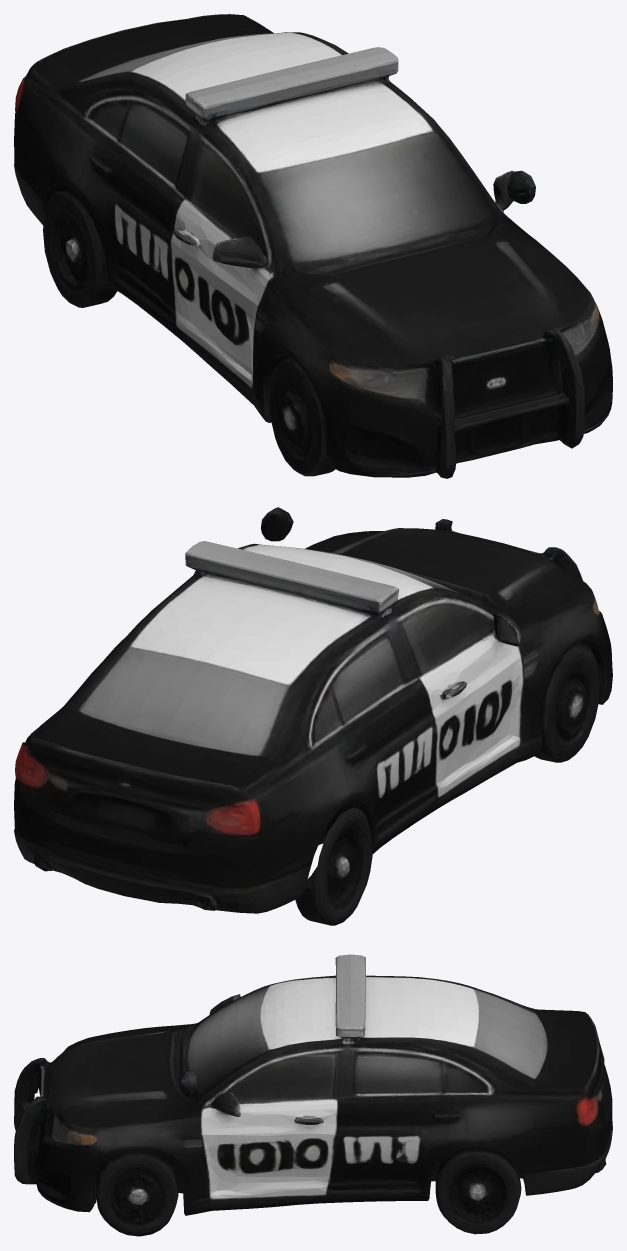
The picture shows the model from 3 angles, top to bottom: view 1: azimuth 30°, elevation 25°; view 2: azimuth 150°, elevation 25°; view 3: azimuth 270°, elevation 25°; orthographic projection. The views are drawn at different scales.
Visible parts, largest first — view 1: geometry_0; view 2: geometry_0; view 3: geometry_0.
Part boxes in pixels (x1=…): geometry_0: x1=14, y1=14, x2=612, y2=478; geometry_0: x1=14, y1=507, x2=612, y2=925; geometry_0: x1=14, y1=954, x2=612, y2=1236.
Size of the model in its own units: 0.4442 by 0.3632 by 1.
Materials: 1 (1 with a texture image).
